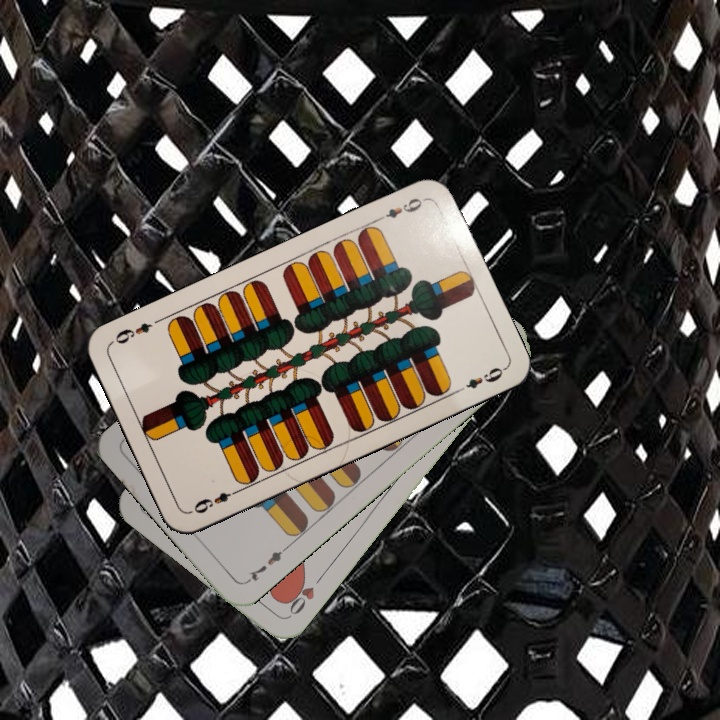E7: (241, 543, 290, 587)
E9: (187, 485, 243, 517), (381, 194, 429, 221)
HO: (281, 569, 327, 619)
